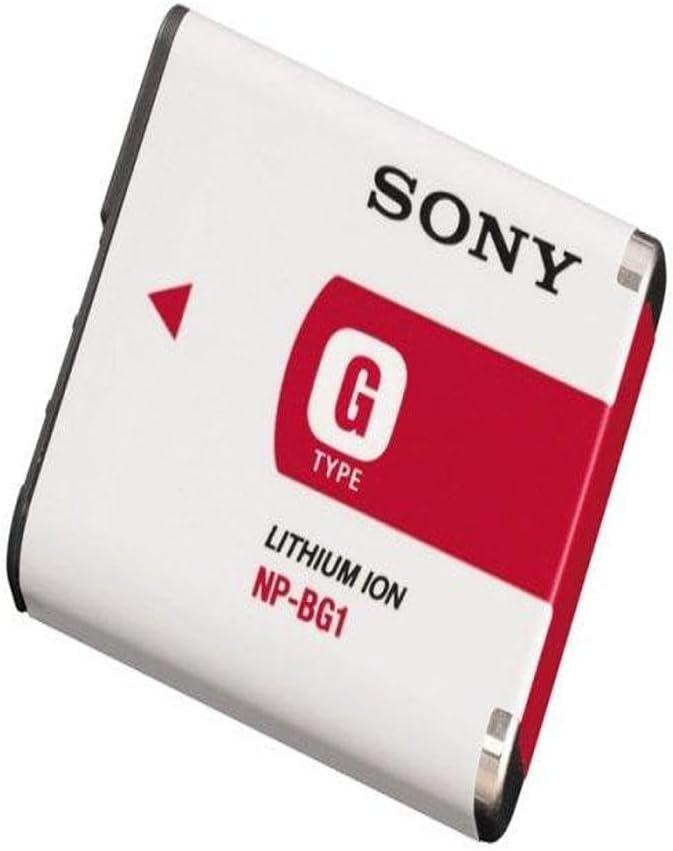battery: (7, 2, 671, 851)
